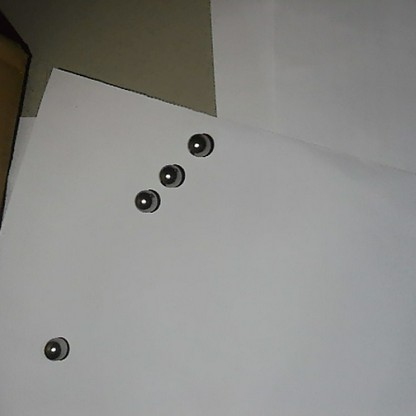ironball: (39, 331, 73, 363), (133, 186, 161, 217), (157, 160, 186, 189), (185, 130, 216, 157)
